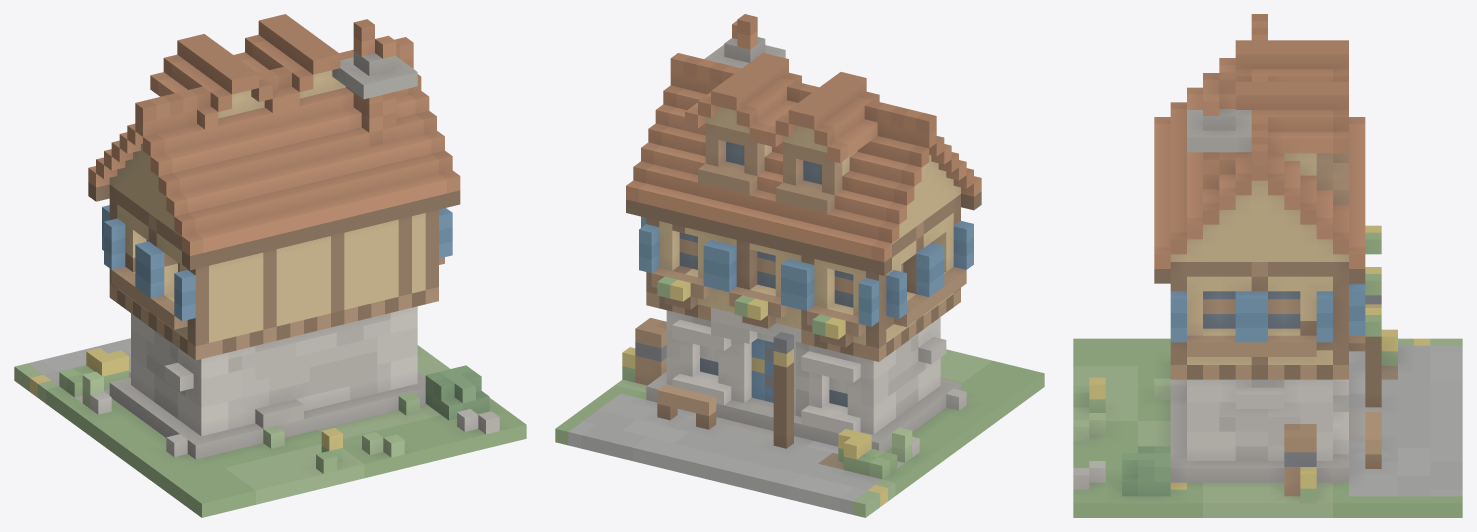
File: house_citizens.v0.glb
3 renders of one model, left to right at view 1: azimuth 30°, elevation 25°; view 2: azimuth 150°, elevation 25°; view 3: azimuth 270°, elevation 25°, orthographic. The views are drawn at different scales.
Parts seen in each view (by area): view 1: house_citizens; view 2: house_citizens; view 3: house_citizens.
Boxes of the visible parts, left/top/right/bottom form: house_citizens: left=14, top=14, right=526, bottom=517; house_citizens: left=555, top=14, right=1044, bottom=517; house_citizens: left=1073, top=14, right=1462, bottom=517.
Bounding box in the file's own units: 3 × 3.38 × 3.
